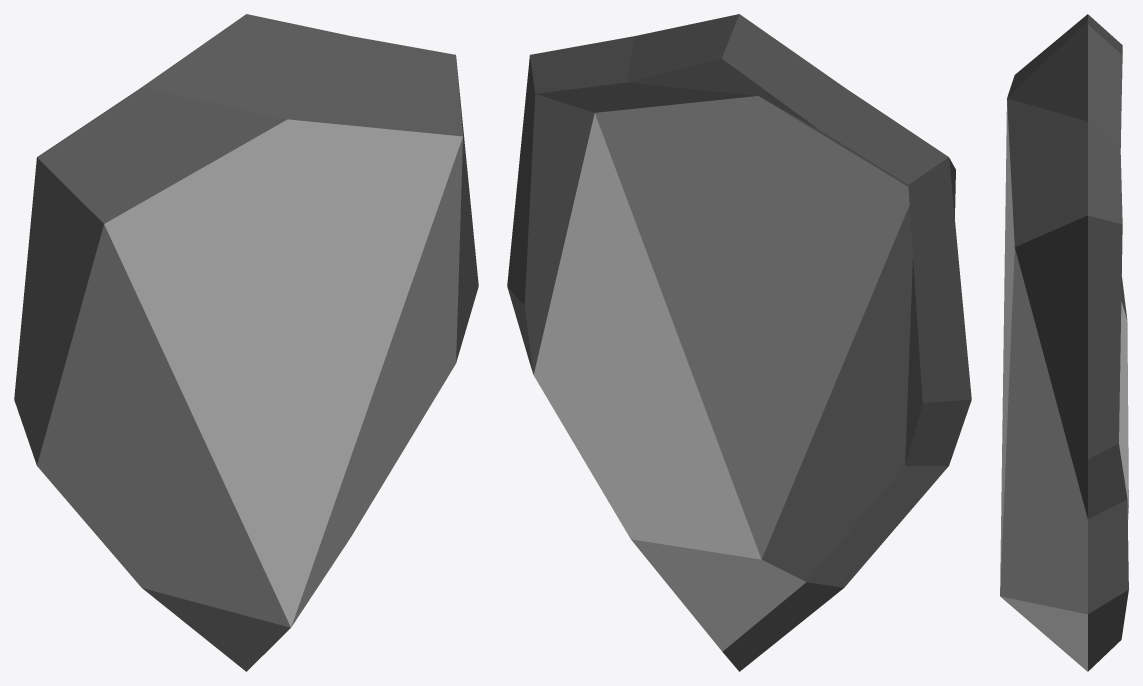
Rendered from Shield_Hero.glb.
The picture shows the model from 3 angles, left to right: view 1: azimuth 30°, elevation 25°; view 2: azimuth 150°, elevation 25°; view 3: azimuth 270°, elevation 25°; orthographic projection.
Visible parts, largest first — view 1: Shield; view 2: Shield; view 3: Shield.
Part boxes in pixels (x1,y1,x2,y2): Shield: (14, 14, 478, 671); Shield: (507, 14, 971, 671); Shield: (1000, 14, 1128, 671).
Bounding box in the file's own units: 0.7556 × 1.02 × 0.1844.
1 material, 1 textured.
